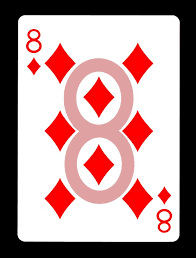eight of diamonds: (18, 15, 179, 242)
